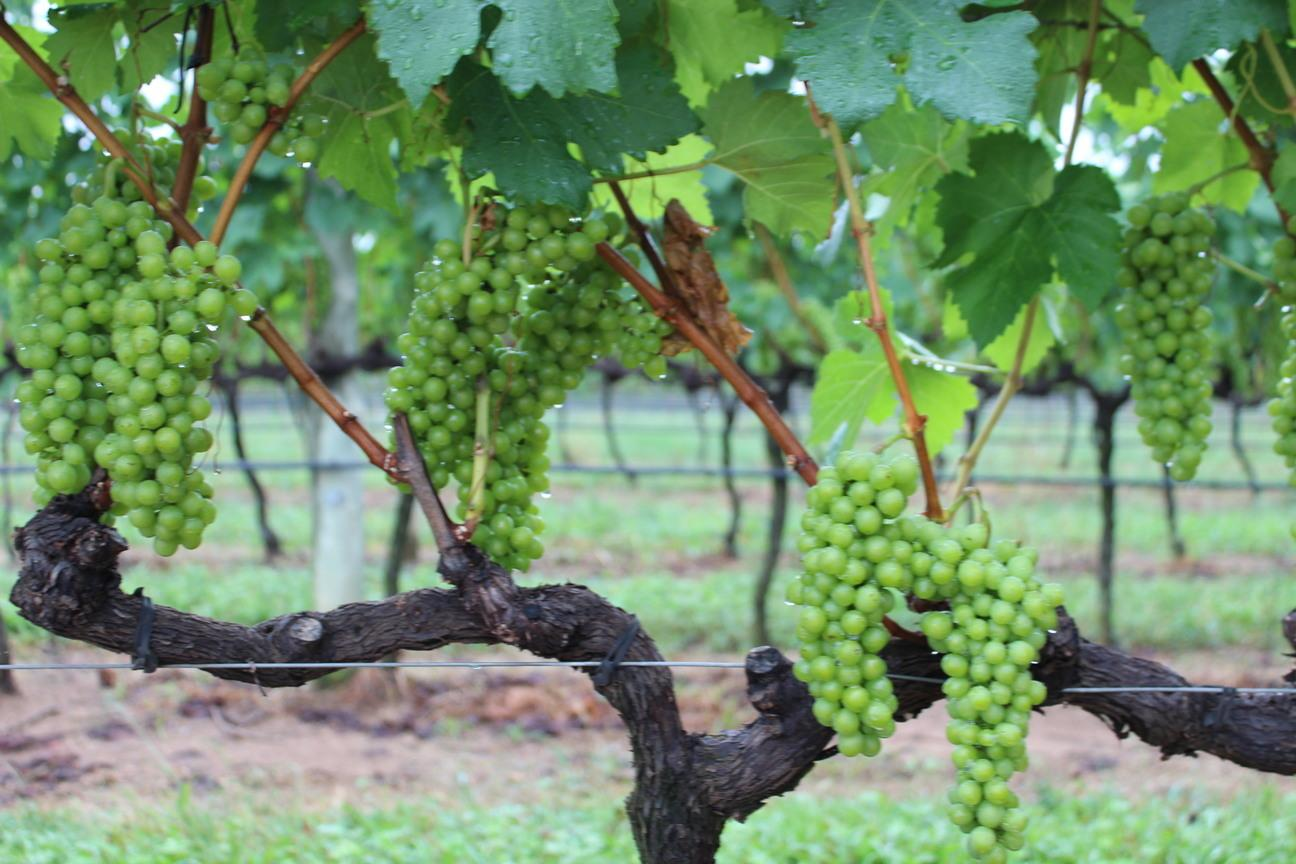leaf: (448, 48, 697, 206), (934, 133, 1119, 345), (786, 0, 1035, 129), (704, 79, 833, 236), (487, 0, 618, 97), (666, 0, 786, 102), (368, 0, 479, 102), (1134, 0, 1287, 68), (1152, 99, 1247, 190), (807, 345, 892, 445), (44, 9, 118, 98), (1200, 170, 1258, 210)
